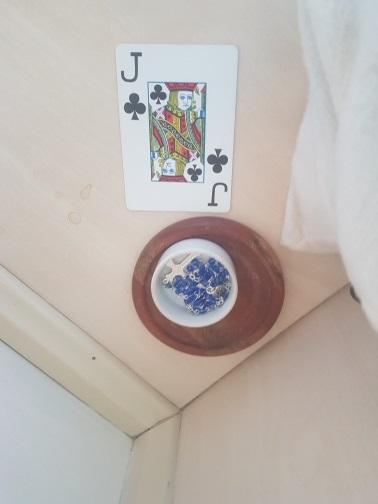jack: (114, 41, 238, 213)
